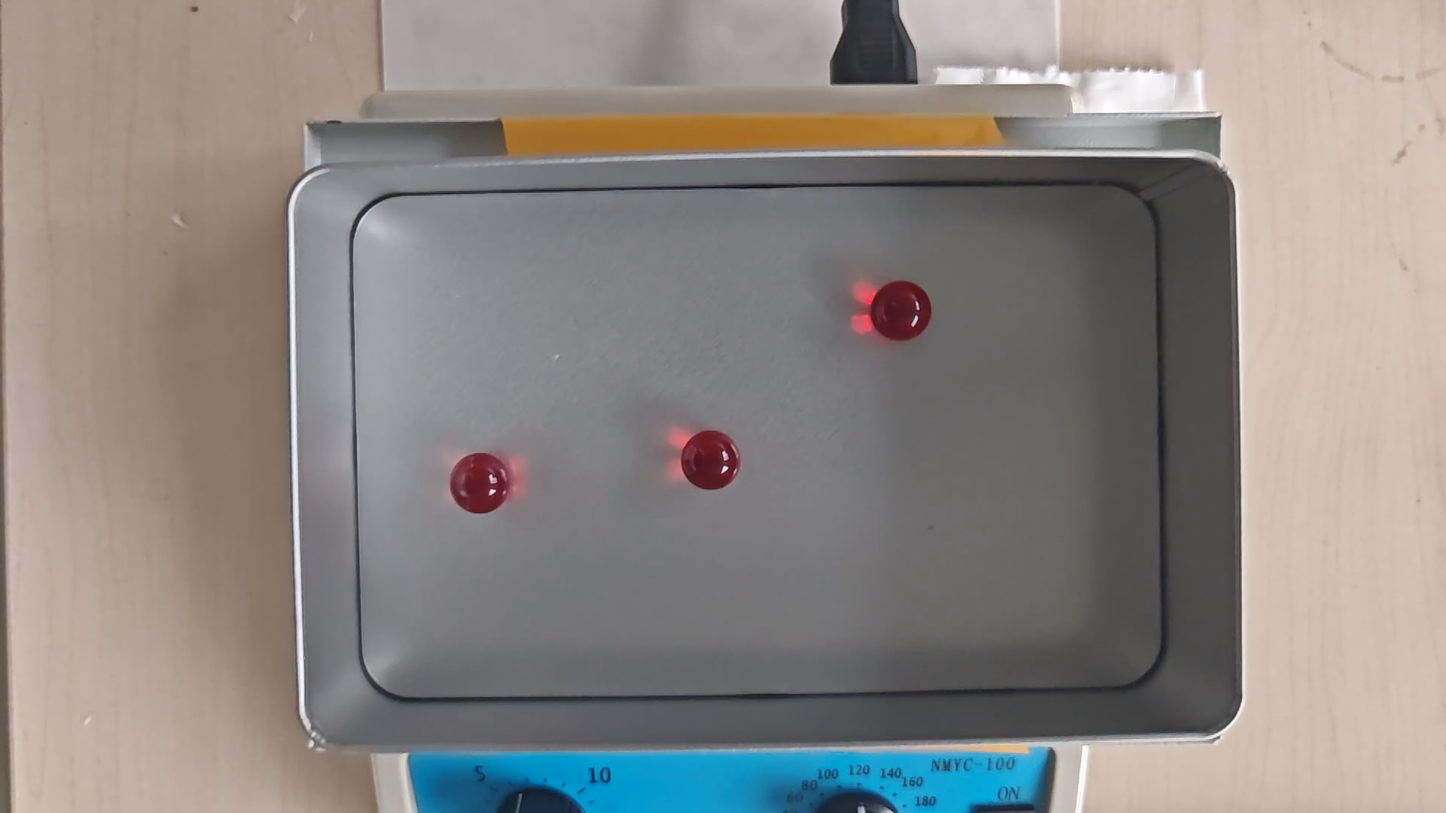ball: (871, 281, 935, 343), (449, 452, 511, 515), (681, 429, 741, 491)
container: (355, 187, 1166, 694)
